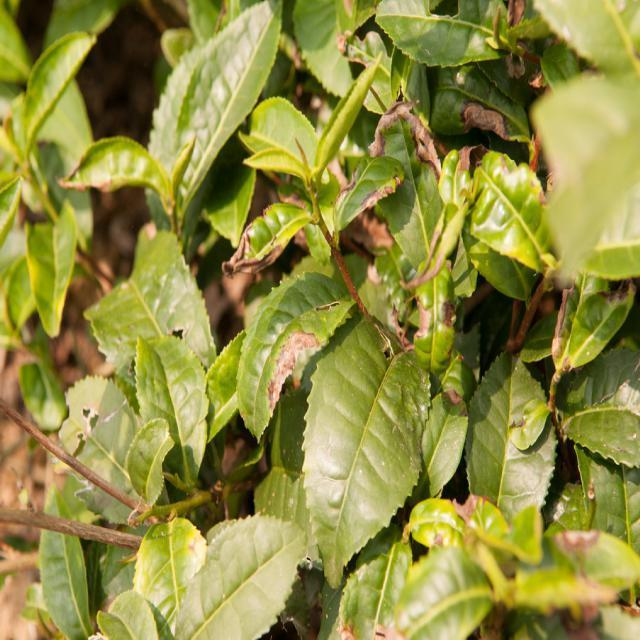Tea cloud leaf blight: (262, 316, 318, 402)
